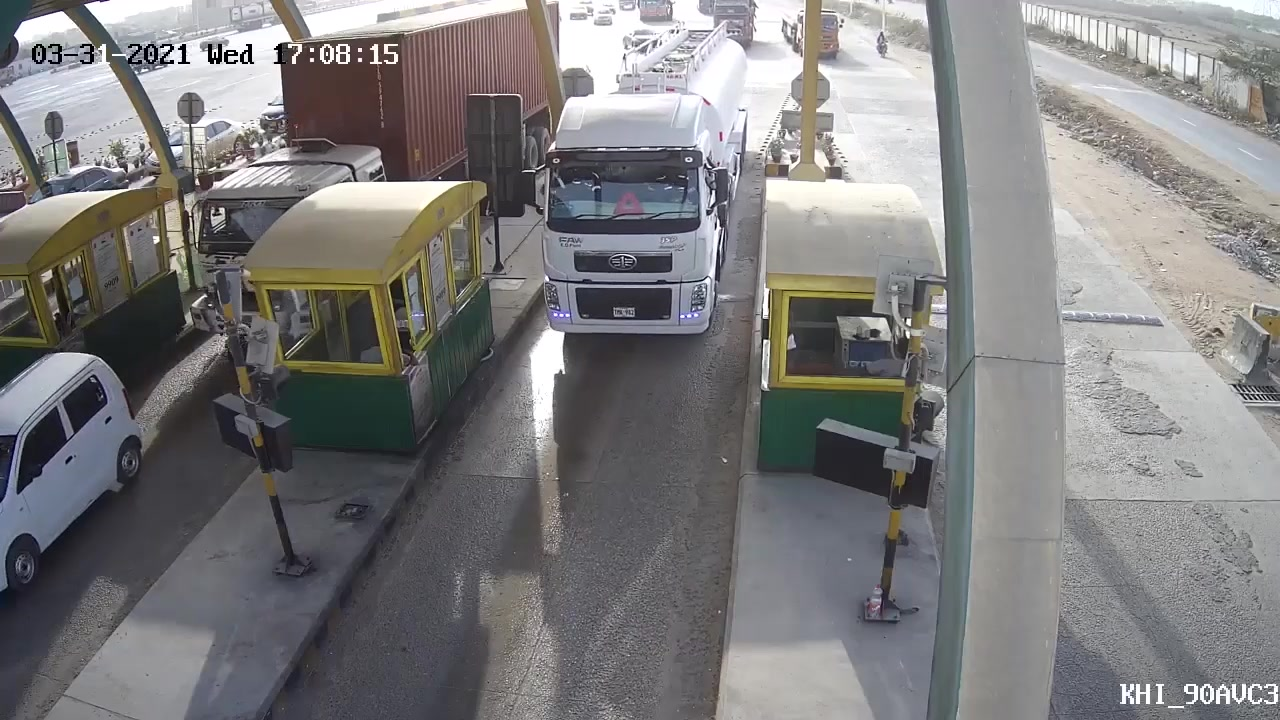F6: (522, 21, 764, 353)
